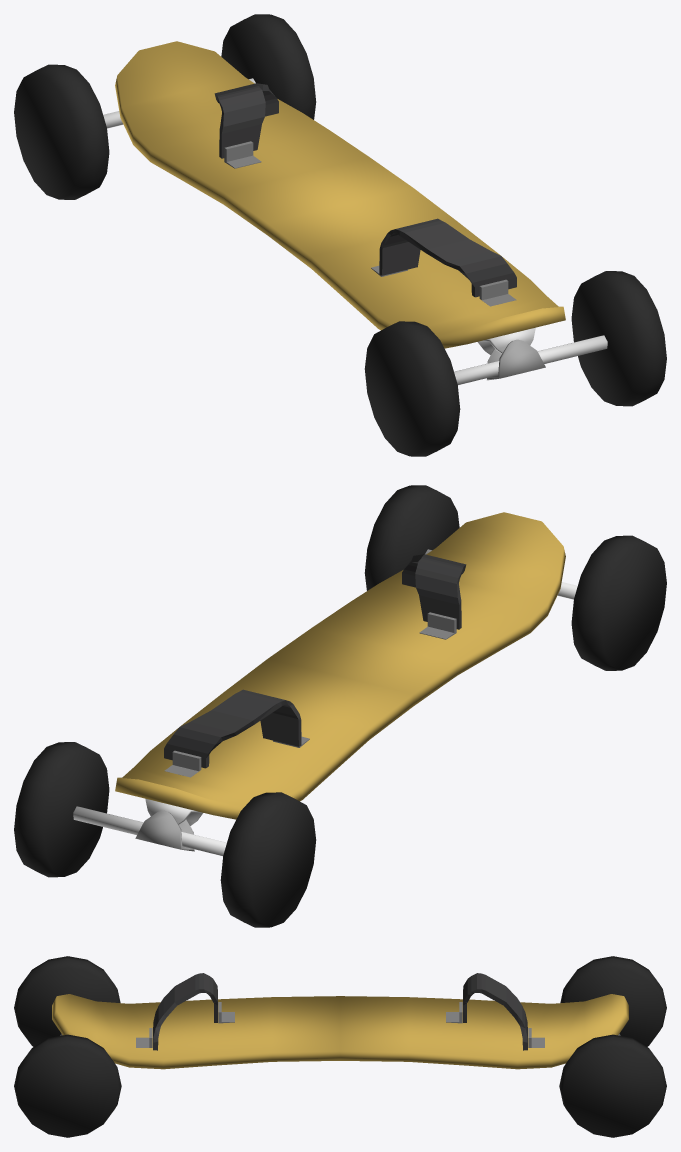
File: board.dae
3 renders of one model, top to bottom at view 1: azimuth 30°, elevation 25°; view 2: azimuth 150°, elevation 25°; view 3: azimuth 270°, elevation 25°, orthographic. The views are drawn at different scales.
Parts seen in each view (by area): view 1: Cube, Cylinder_001, Cylinder_005, Cylinder, Plane_005, Cylinder_004, Plane_004, Cylinder_002, Plane, Plane_001; view 2: Cube, Cylinder_005, Cylinder_001, Cylinder_004, Plane_004, Cylinder, Plane_005, Cylinder_003, Plane_003, Plane_002; view 3: Cube, Cylinder, Cylinder_004, Cylinder_001, Cylinder_005, Plane_004, Plane_005.
Part boxes in pixels (<box>): Cube: <box>115,41,565,348</box>; Cylinder_001: <box>364,321,460,456</box>; Cylinder_005: <box>14,64,109,199</box>; Cylinder: <box>571,271,666,406</box>; Plane_005: <box>371,218,516,306</box>; Cylinder_004: <box>221,14,316,119</box>; Plane_004: <box>214,83,278,168</box>; Cylinder_002: <box>454,335,607,384</box>; Plane: <box>487,339,545,380</box>; Plane_001: <box>478,327,535,354</box>; Cube: <box>115,512,565,819</box>; Cylinder_005: <box>220,792,316,927</box>; Cylinder_001: <box>571,535,666,670</box>; Cylinder_004: <box>14,742,109,877</box>; Plane_004: <box>164,689,309,777</box>; Cylinder: <box>364,485,459,590</box>; Plane_005: <box>402,554,466,639</box>; Cylinder_003: <box>73,806,226,855</box>; Plane_003: <box>135,810,194,851</box>; Plane_002: <box>145,798,202,825</box>; Cube: <box>52,994,628,1069</box>; Cylinder: <box>14,1034,121,1137</box>; Cylinder_004: <box>559,1034,666,1137</box>; Cylinder_001: <box>14,956,120,1046</box>; Cylinder_005: <box>560,956,666,1046</box>; Plane_004: <box>446,973,544,1050</box>; Plane_005: <box>136,973,234,1050</box>.
Bounding box in the file's own units: 0.7798 × 2.39 × 0.4459.
